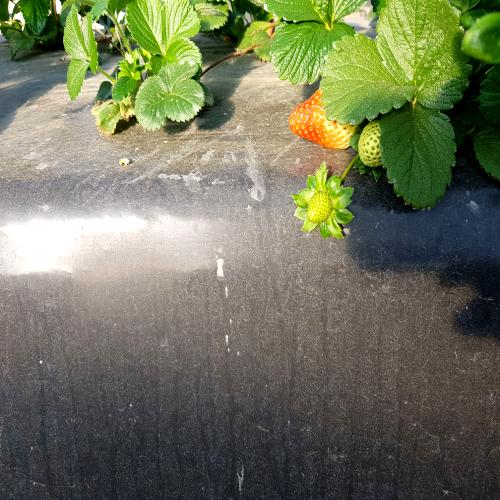partially-ripe: (282, 75, 359, 160)
